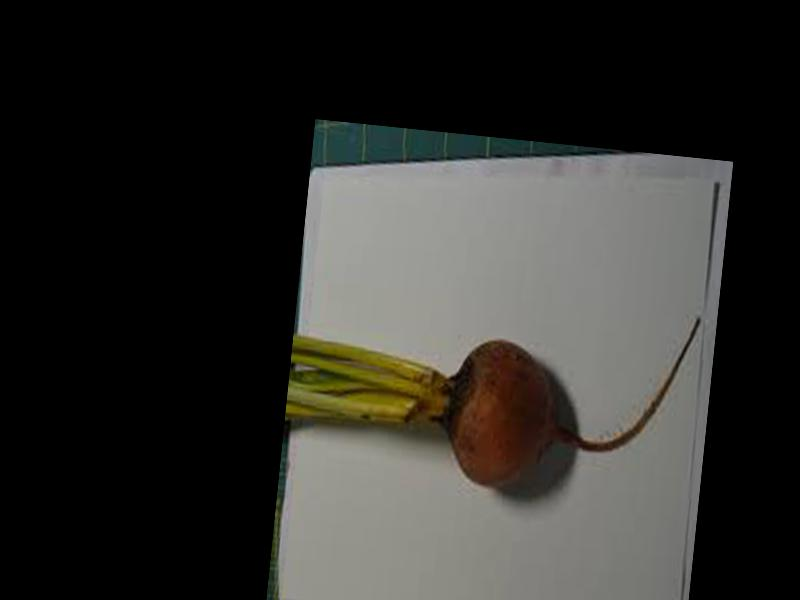Beet: (284, 279, 700, 506)
